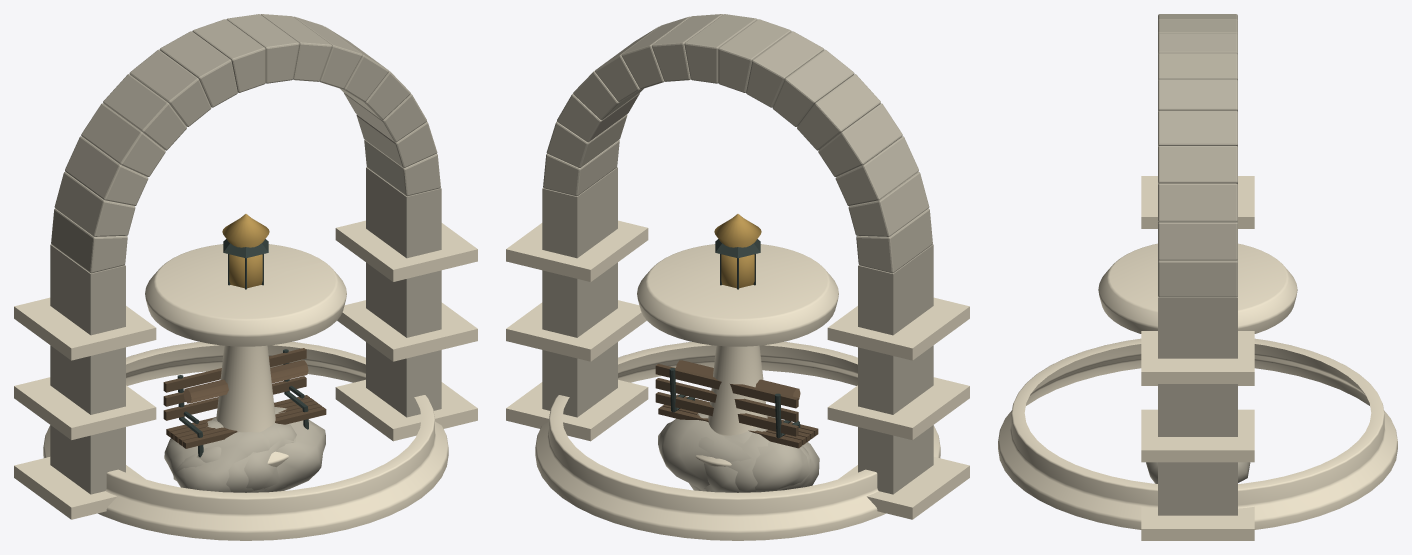
Rendered from props.glb.
The picture shows the model from 3 angles, left to right: view 1: azimuth 30°, elevation 25°; view 2: azimuth 150°, elevation 25°; view 3: azimuth 270°, elevation 25°; orthographic projection.
Visible parts, largest first — view 1: prop_arch_stone, prop_fountain_ivory, prop_arch_ivory, prop_rock_2, prop_bench_wood, prop_rock_0, prop_rock_1, prop_bell_wood, prop_fountain_gold, prop_lantern_gold, prop_bench_iron, prop_lantern_iron; view 2: prop_arch_stone, prop_fountain_ivory, prop_arch_ivory, prop_rock_2, prop_bench_wood, prop_rock_1, prop_fountain_gold, prop_rock_0, prop_lantern_gold, prop_bell_wood, prop_lantern_iron, prop_bench_iron; view 3: prop_arch_stone, prop_fountain_ivory, prop_arch_ivory.
Boxes of the visible parts, x1,y1,x2,y2 form: prop_arch_stone: (50, 14, 441, 494); prop_fountain_ivory: (43, 244, 448, 540); prop_arch_ivory: (14, 220, 477, 519); prop_rock_2: (164, 407, 325, 492); prop_bench_wood: (163, 348, 326, 448); prop_rock_0: (196, 417, 296, 490); prop_rock_1: (173, 420, 295, 492); prop_bell_wood: (183, 360, 308, 403); prop_fountain_gold: (222, 214, 269, 247); prop_lantern_gold: (229, 254, 262, 288); prop_bench_iron: (177, 349, 308, 457); prop_lantern_iron: (223, 239, 268, 289); prop_arch_stone: (542, 14, 933, 494); prop_fountain_ivory: (535, 244, 940, 540); prop_arch_ivory: (506, 220, 969, 519); prop_rock_2: (658, 413, 819, 492); prop_bench_wood: (655, 364, 818, 448); prop_rock_1: (698, 428, 810, 492); prop_fountain_gold: (714, 214, 761, 247); prop_rock_0: (689, 427, 780, 492); prop_lantern_gold: (721, 254, 754, 288); prop_bell_wood: (676, 360, 800, 399); prop_lantern_iron: (715, 239, 760, 289); prop_bench_iron: (669, 368, 800, 437); prop_arch_stone: (1158, 14, 1237, 515); prop_fountain_ivory: (998, 243, 1397, 529); prop_arch_ivory: (1141, 176, 1254, 540).
Bounding box in the file's own units: 6.95 × 7.58 × 6.
